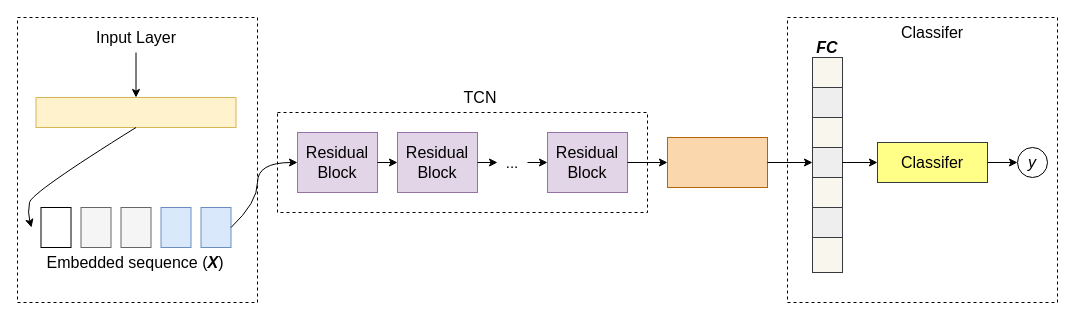
Image size: 1075x320. Some labels were removed from this diagram. The centre of each missing label's shape, as x and y in pixels:
Character Embedding: point 135,112
Feature Extraction: point 717,162
